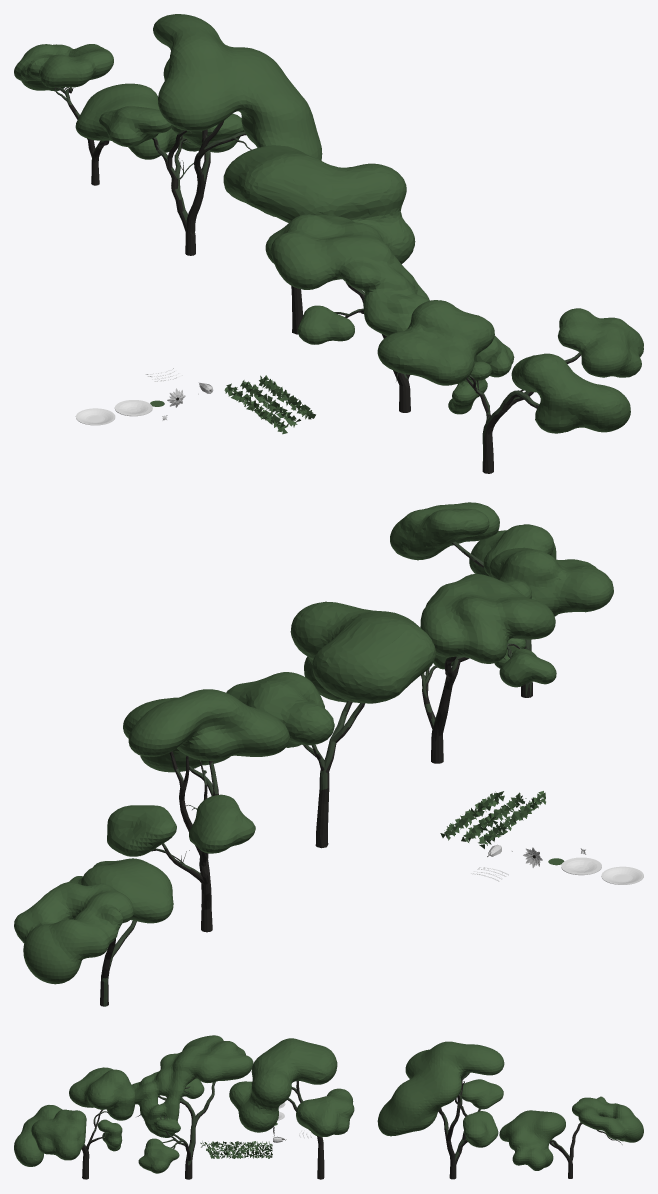
Rendered from Plants.fbx.
The picture shows the model from 3 angles, top to bottom: view 1: azimuth 30°, elevation 25°; view 2: azimuth 150°, elevation 25°; view 3: azimuth 270°, elevation 25°; orthographic projection. The views are drawn at different scales.
Visible parts, largest first — view 1: Giant Tree 4, Giant Tree 1, Giant Tree 2, Giant Tree 3, Giant Tree 5, Large Vine 1, Large Vine 3, Large Vine 2; view 2: Giant Tree 4, Giant Tree 3, Giant Tree 5, Giant Tree 1, Giant Tree 2, Large Vine 1, Large Vine 3, Large Vine 2; view 3: Giant Tree 4, Giant Tree 3, Giant Tree 2, Giant Tree 1, Giant Tree 5, Large Vine 3, Large Vine 1, Large Vine 2.
Part boxes in pixels (x1,y1,x2,y2): Giant Tree 4: (99,14,322,255); Giant Tree 1: (377,300,643,473); Giant Tree 2: (265,214,514,412); Giant Tree 3: (223,145,415,334); Giant Tree 5: (14,44,199,185); Large Vine 1: (224,383,288,434); Large Vine 3: (259,375,315,419); Large Vine 2: (240,380,300,427); Giant Tree 4: (107,689,289,932); Giant Tree 3: (226,601,435,848); Giant Tree 5: (14,858,173,1006); Giant Tree 1: (390,502,613,697); Giant Tree 2: (420,574,556,763); Large Vine 1: (478,791,545,848); Large Vine 3: (440,791,504,840); Large Vine 2: (461,792,526,842); Giant Tree 4: (377,1041,504,1179); Giant Tree 3: (229,1038,354,1179); Giant Tree 2: (132,1035,253,1179); Giant Tree 1: (14,1067,135,1179); Giant Tree 5: (499,1096,643,1178); Large Vine 3: (209,1151,272,1158); Large Vine 1: (200,1141,272,1148); Large Vine 2: (206,1146,272,1153).
Bounding box in the file's own units: 13519 × 7430 × 30102.
